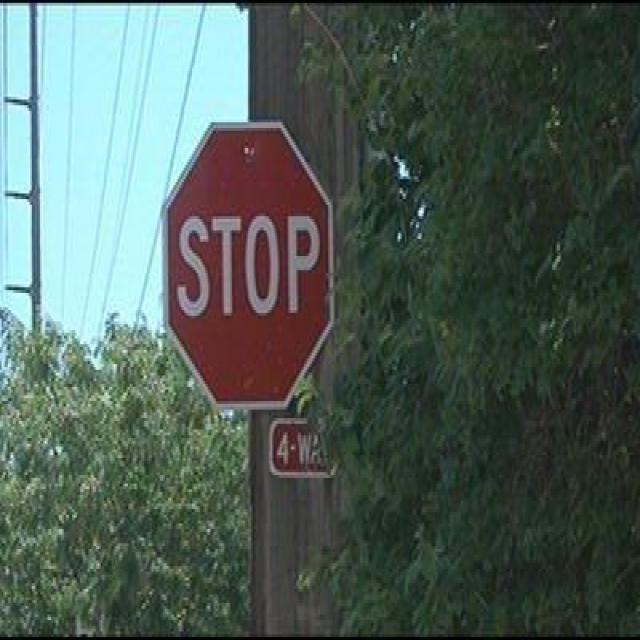Stop-Sign: (167, 125, 328, 402)
